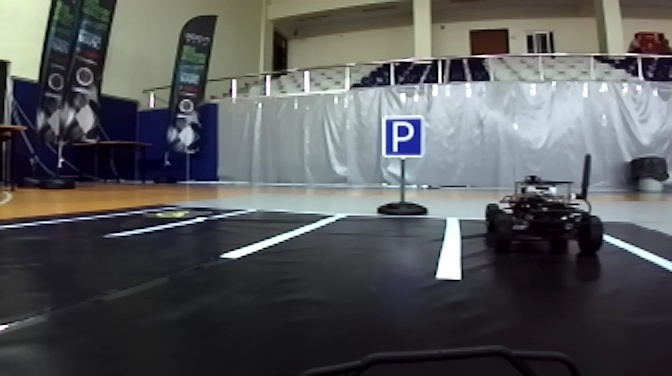park: (381, 117, 427, 159)
